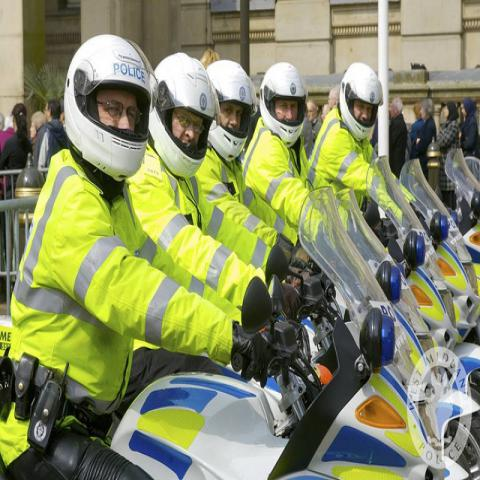motorcycle: (111, 179, 470, 479), (335, 193, 480, 423), (364, 154, 478, 360), (398, 157, 480, 342), (444, 144, 479, 232)
